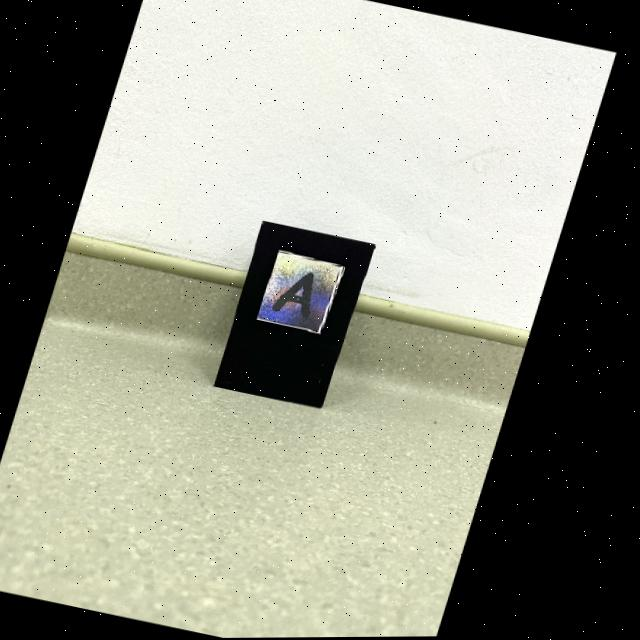A: (278, 273, 319, 319)
